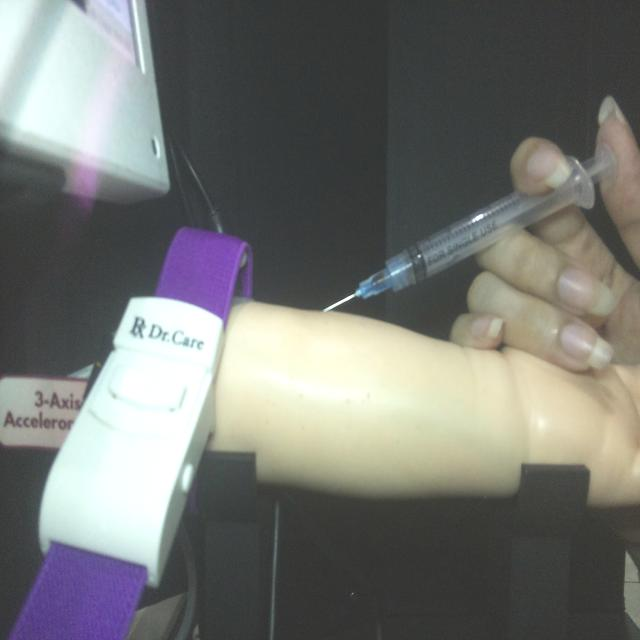18 degrees: (321, 137, 619, 315)
